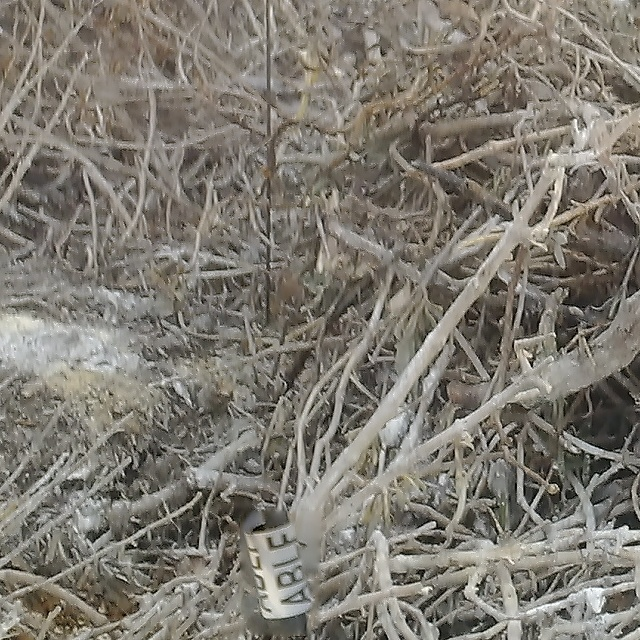tag: (236, 507, 324, 639)
